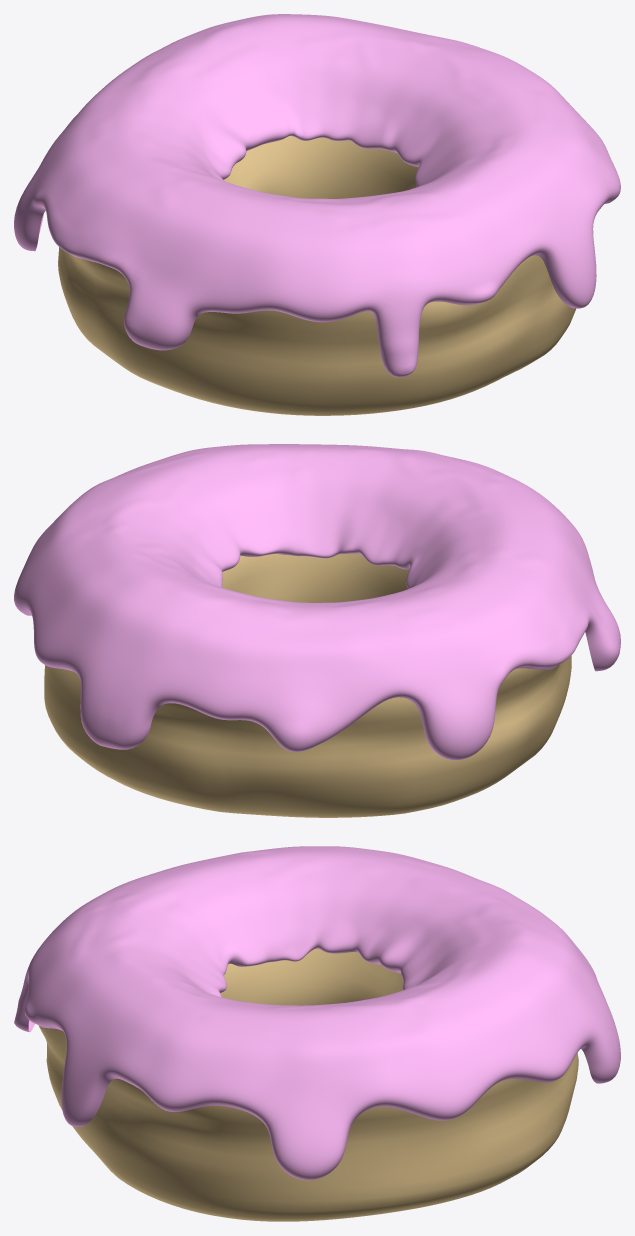
Rendered from newdonut.gltf.
The picture shows the model from 3 angles, top to bottom: view 1: azimuth 30°, elevation 25°; view 2: azimuth 150°, elevation 25°; view 3: azimuth 270°, elevation 25°; orthographic projection. The views are drawn at different scales.
Parts seen in each view (by area): view 1: Icing, Donut; view 2: Icing, Donut; view 3: Icing, Donut.
Part boxes in pixels (box(x1,y1,x2,y2)): Icing: box(14, 14, 620, 377); Donut: box(58, 136, 576, 415); Icing: box(14, 444, 620, 760); Donut: box(44, 553, 571, 817); Icing: box(14, 846, 620, 1180); Donut: box(38, 948, 578, 1221).
Size of the model in its own units: 0.1565 by 0.0608 by 0.1575.
